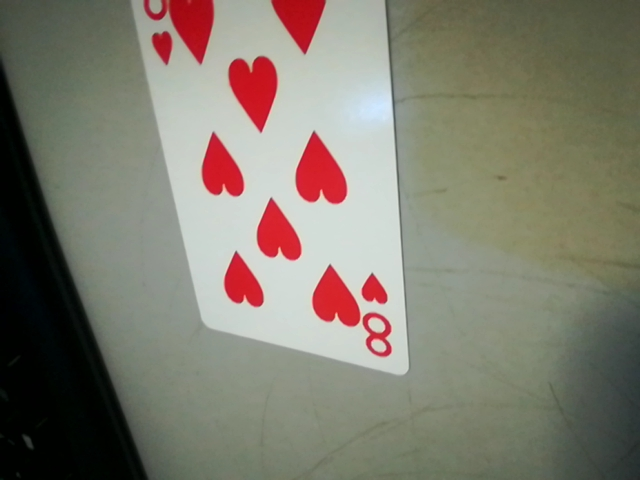hx 8: (358, 274, 403, 367)
